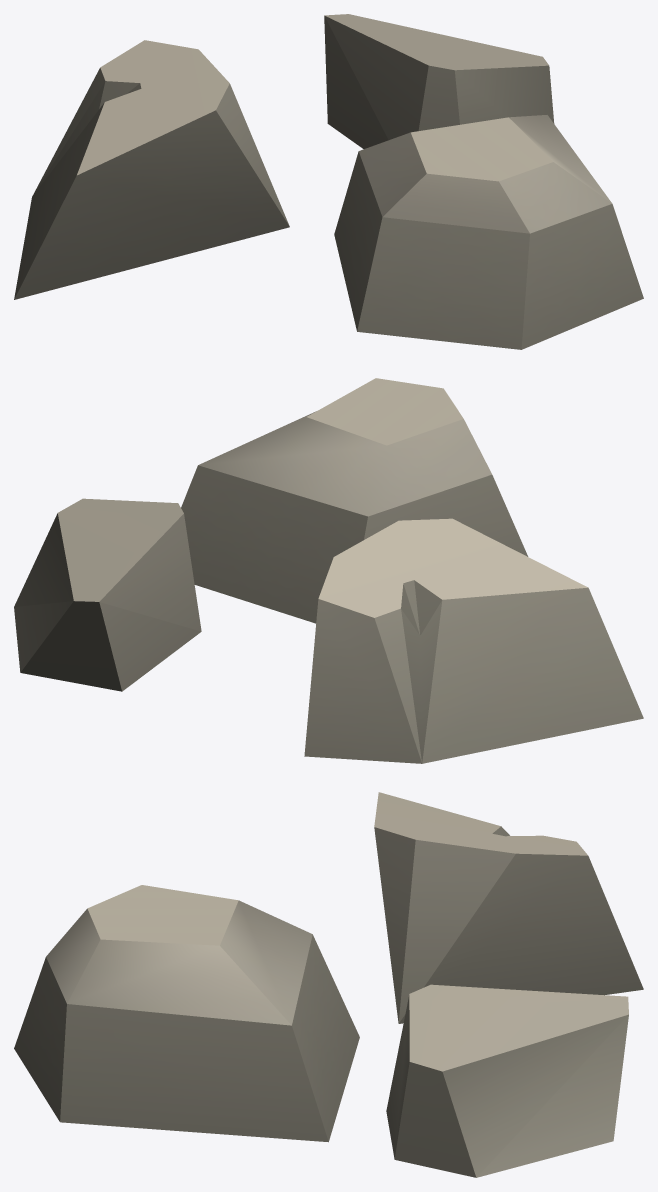
The model's file is Rock_Cluster_1A.fbx.
3 views of the same model, one above another, from view 1: azimuth 30°, elevation 25°; view 2: azimuth 150°, elevation 25°; view 3: azimuth 270°, elevation 25° (orthographic). The views are drawn at different scales.
Parts seen in each view (by area): view 1: Rock_Cluster_1A; view 2: Rock_Cluster_1A; view 3: Rock_Cluster_1A.
Boxes of the visible parts, x1,y1,x2,y2 form: Rock_Cluster_1A: (14,14,643,349); Rock_Cluster_1A: (14,378,643,763); Rock_Cluster_1A: (14,792,643,1177).
Bounding box in the file's own units: 1.04 × 0.2564 × 0.9277.
